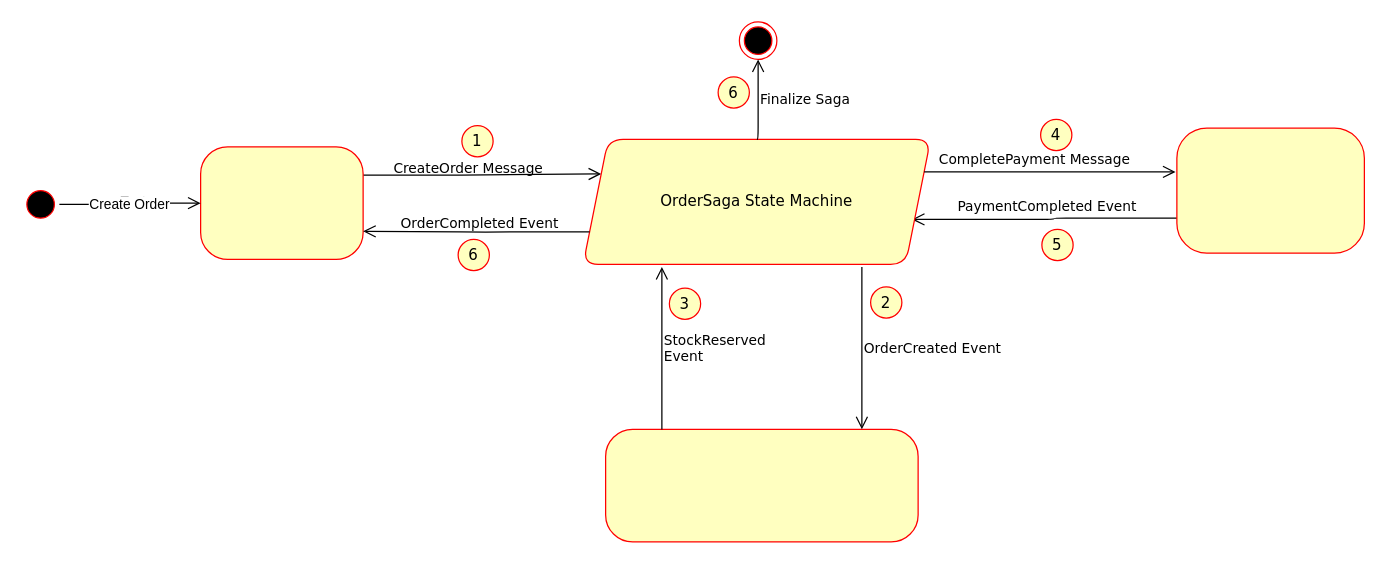
Image size: 1386x564. Some labels were removed from this diagram. Each missing label, with the centre of its shape:
Order Service: the point at 281,202
Payment Service: the point at 1270,190
Stock Service: the point at 761,485
